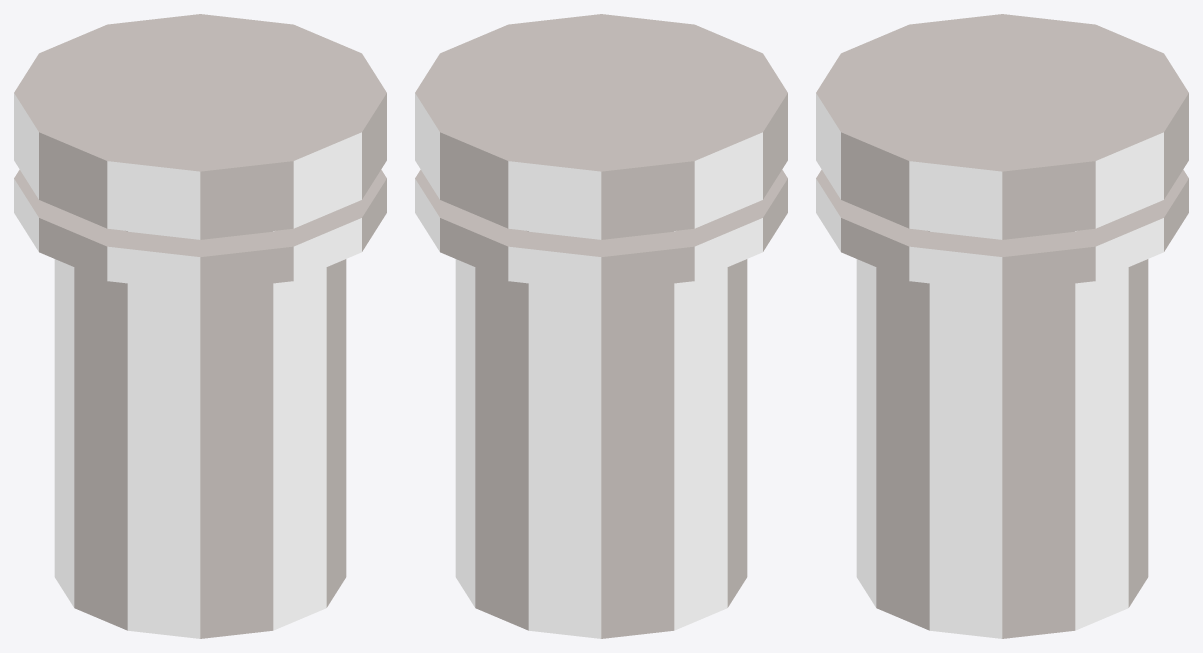
Rendered from pillar.glb.
The picture shows the model from 3 angles, left to right: view 1: azimuth 30°, elevation 25°; view 2: azimuth 150°, elevation 25°; view 3: azimuth 270°, elevation 25°; orthographic projection.
Visible parts, largest first — view 1: Cylinder, Cylinder.001, Cylinder.002; view 2: Cylinder, Cylinder.001, Cylinder.002; view 3: Cylinder, Cylinder.001, Cylinder.002.
Part boxes in pixels (x1,y1,x2,y2): Cylinder: (54,231,346,638); Cylinder.001: (14,14,386,239); Cylinder.002: (14,169,386,291); Cylinder: (455,231,747,638); Cylinder.001: (415,14,787,239); Cylinder.002: (415,169,787,291); Cylinder: (856,231,1148,638); Cylinder.001: (816,14,1188,239); Cylinder.002: (816,169,1188,291).
Bounding box in the file's own units: 2 × 2.87 × 2.
1 material, 1 textured.
